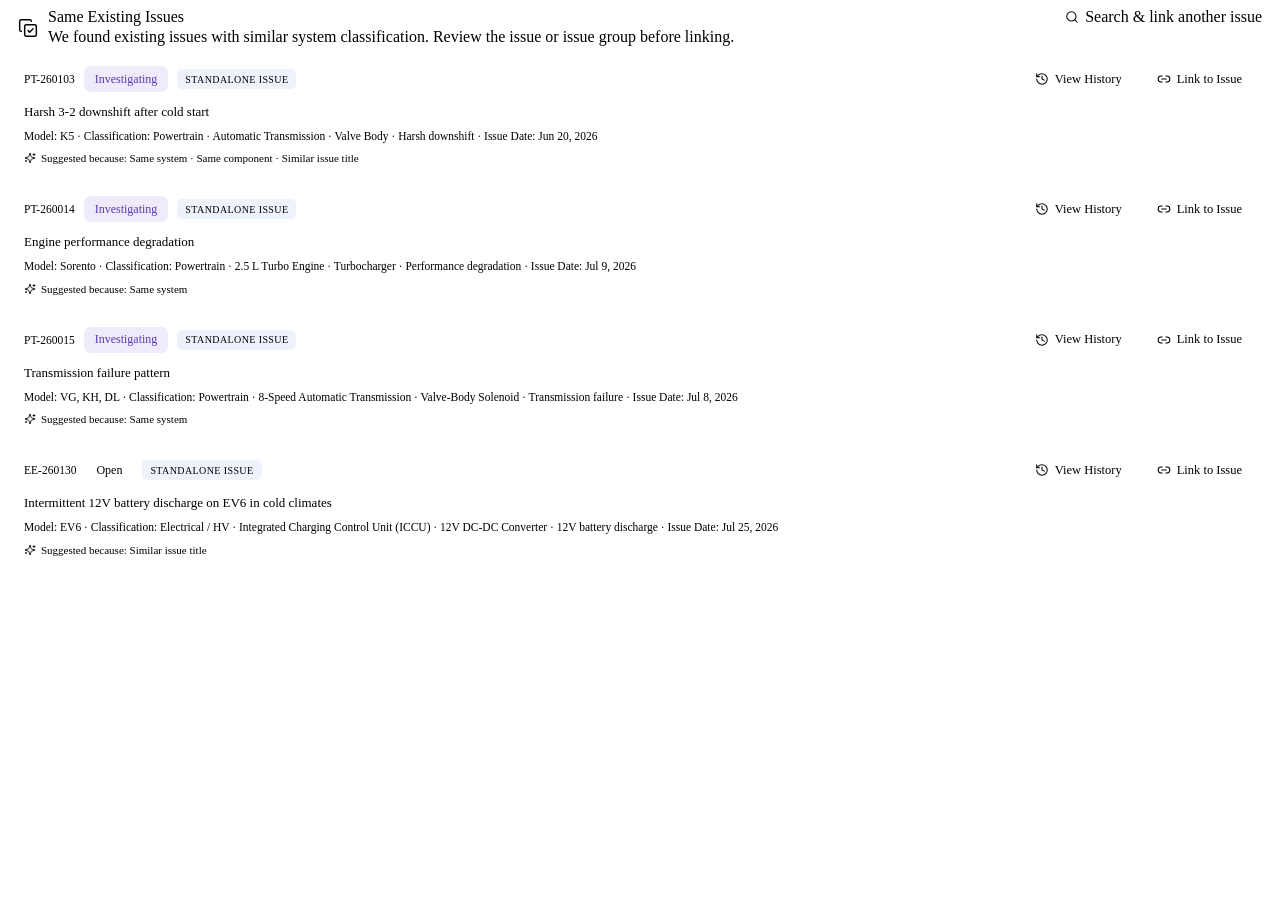
Scenario: ⚠️ LINKING IS GATED, AND THE CALLER NEVER SEES AN UNJUSTIFIED CHANGE › asks for a reason instead of linking immediately
Click the button "Search & link another issue".
click(1164, 17)  # box [1055, 8, 1272, 26]
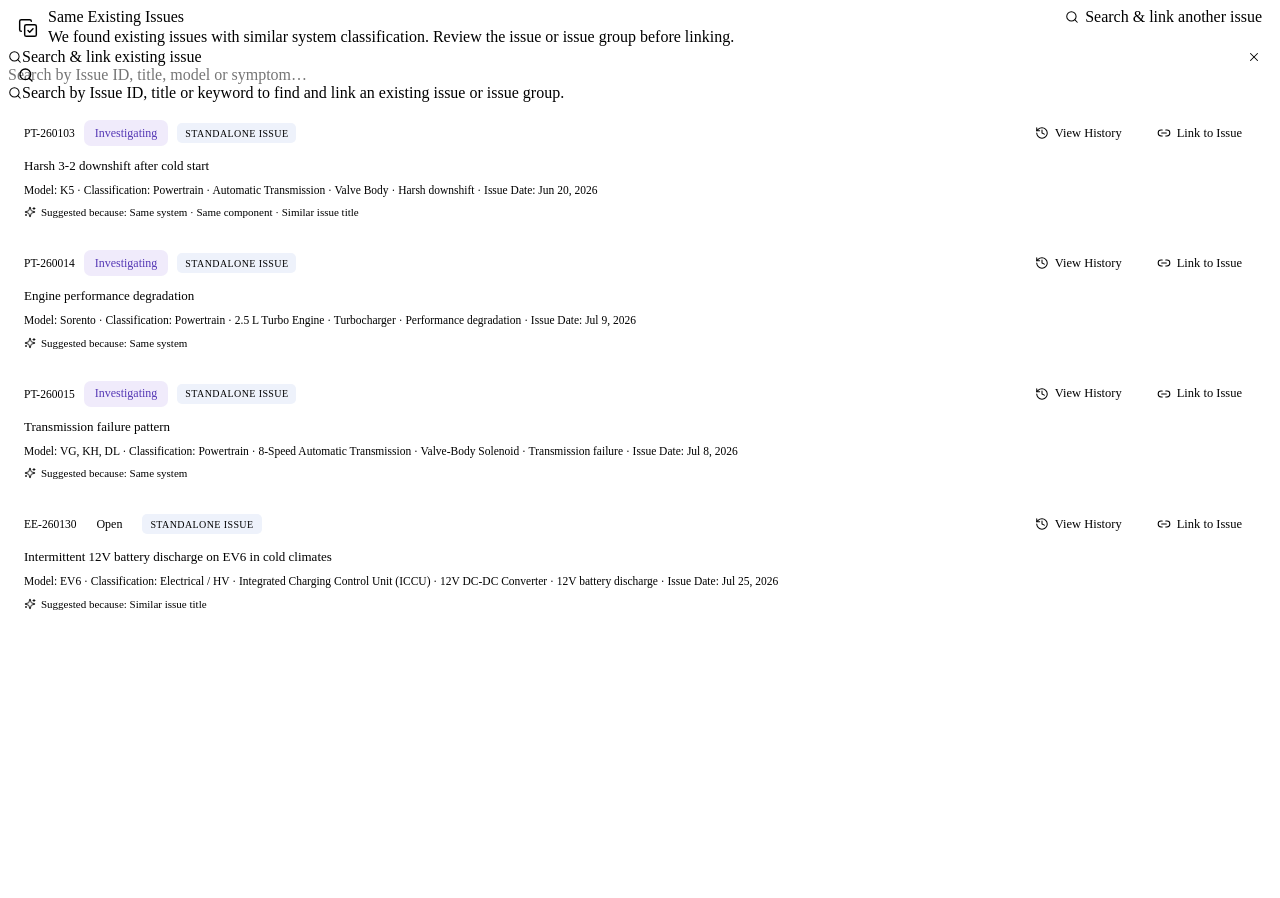
Type "EE-2600" into the search field named "search issues to link".
click(640, 75); type("EE-2600")  # box [8, 66, 1272, 84]
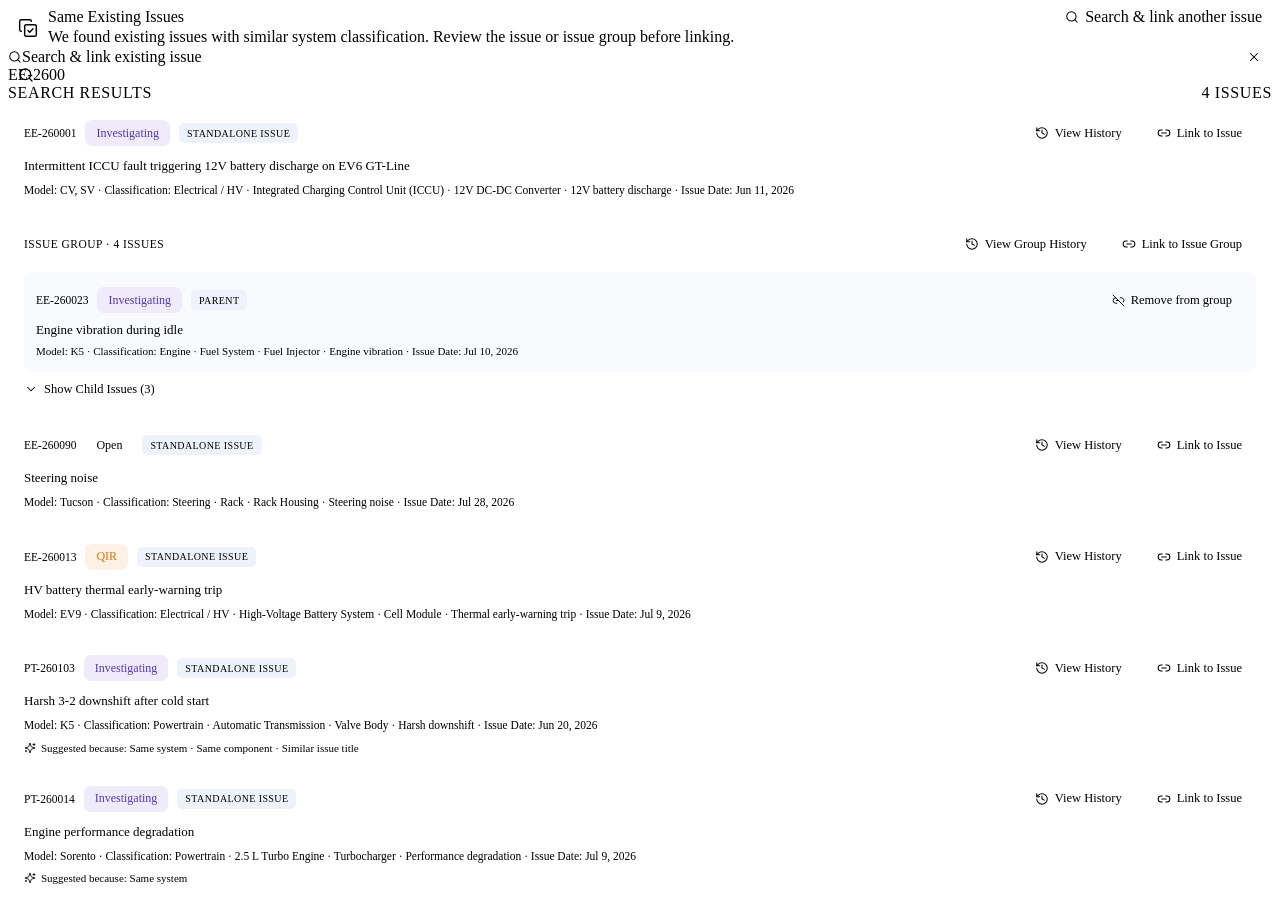
Click the button "Link to Issue" in the row of "EE-260001".
click(1199, 133)  # box [1143, 116, 1256, 150]
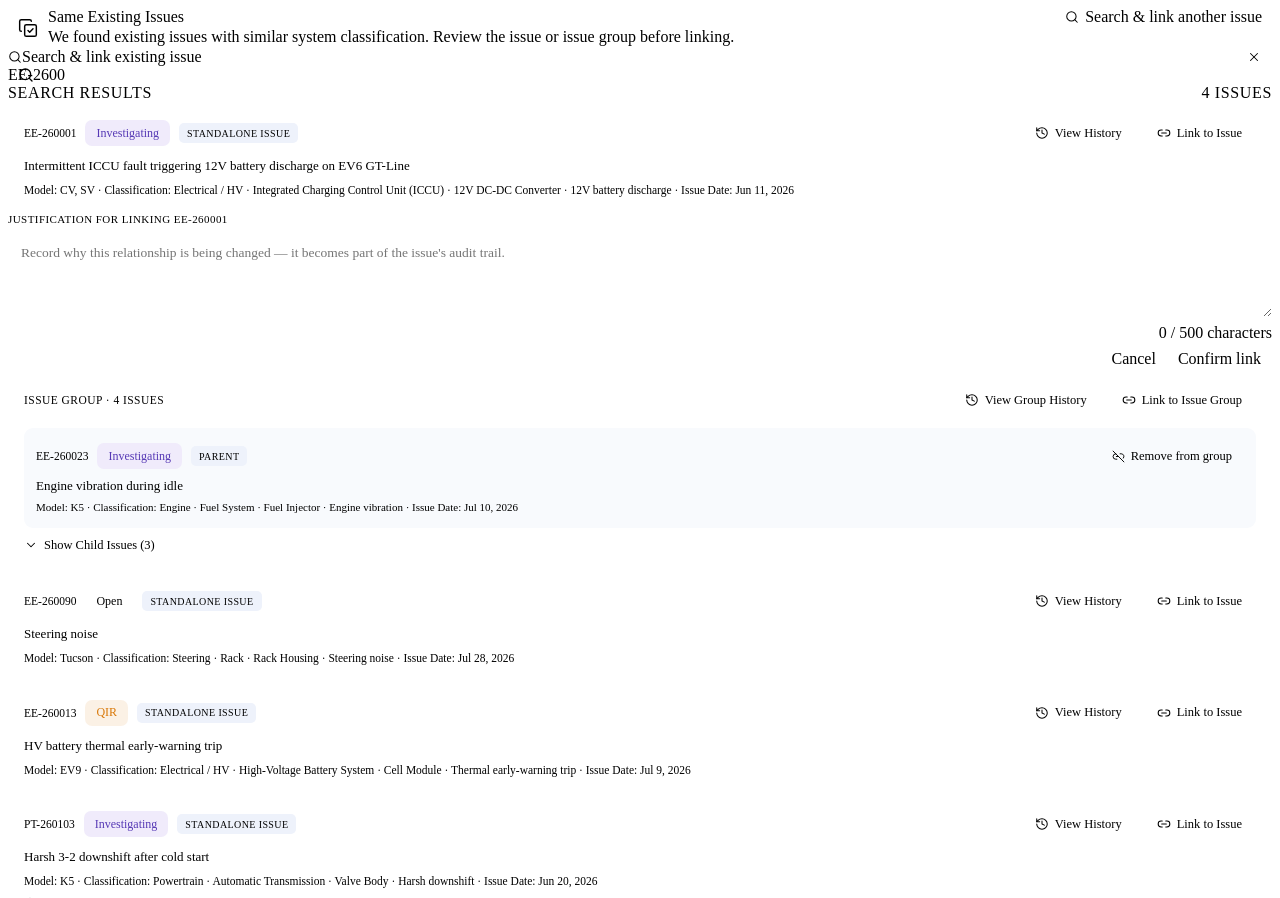
Now the text box named "justification for linking" is shown, box [8, 232, 1272, 317]
